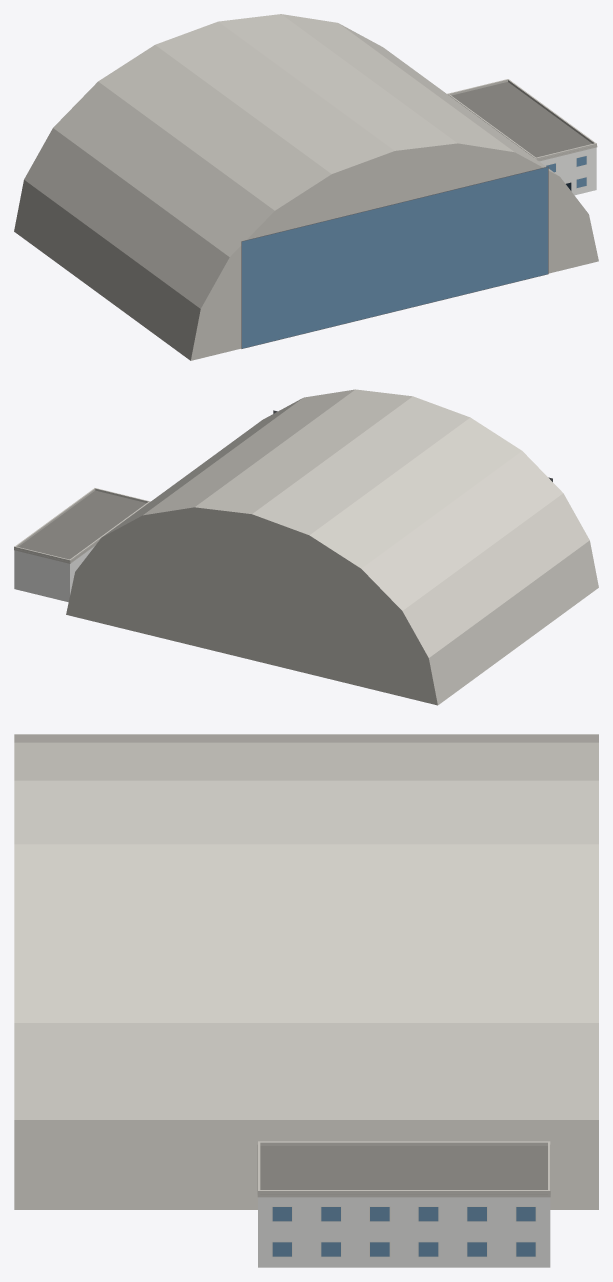
The model's file is hangar_avions.glb.
The picture shows the model from 3 angles, top to bottom: view 1: azimuth 30°, elevation 25°; view 2: azimuth 150°, elevation 25°; view 3: azimuth 270°, elevation 25°; orthographic projection. The views are drawn at different scales.
Visible parts, largest first — view 1: hangar_avions; view 2: hangar_avions; view 3: hangar_avions.
Part boxes in pixels (bbox=[...]): hangar_avions: bbox=[14, 14, 598, 360]; hangar_avions: bbox=[14, 389, 598, 705]; hangar_avions: bbox=[14, 734, 598, 1267].
Size of the model in its own units: 94.05 by 30.1 by 60.05.
Materials: 1 (1 with a texture image).
